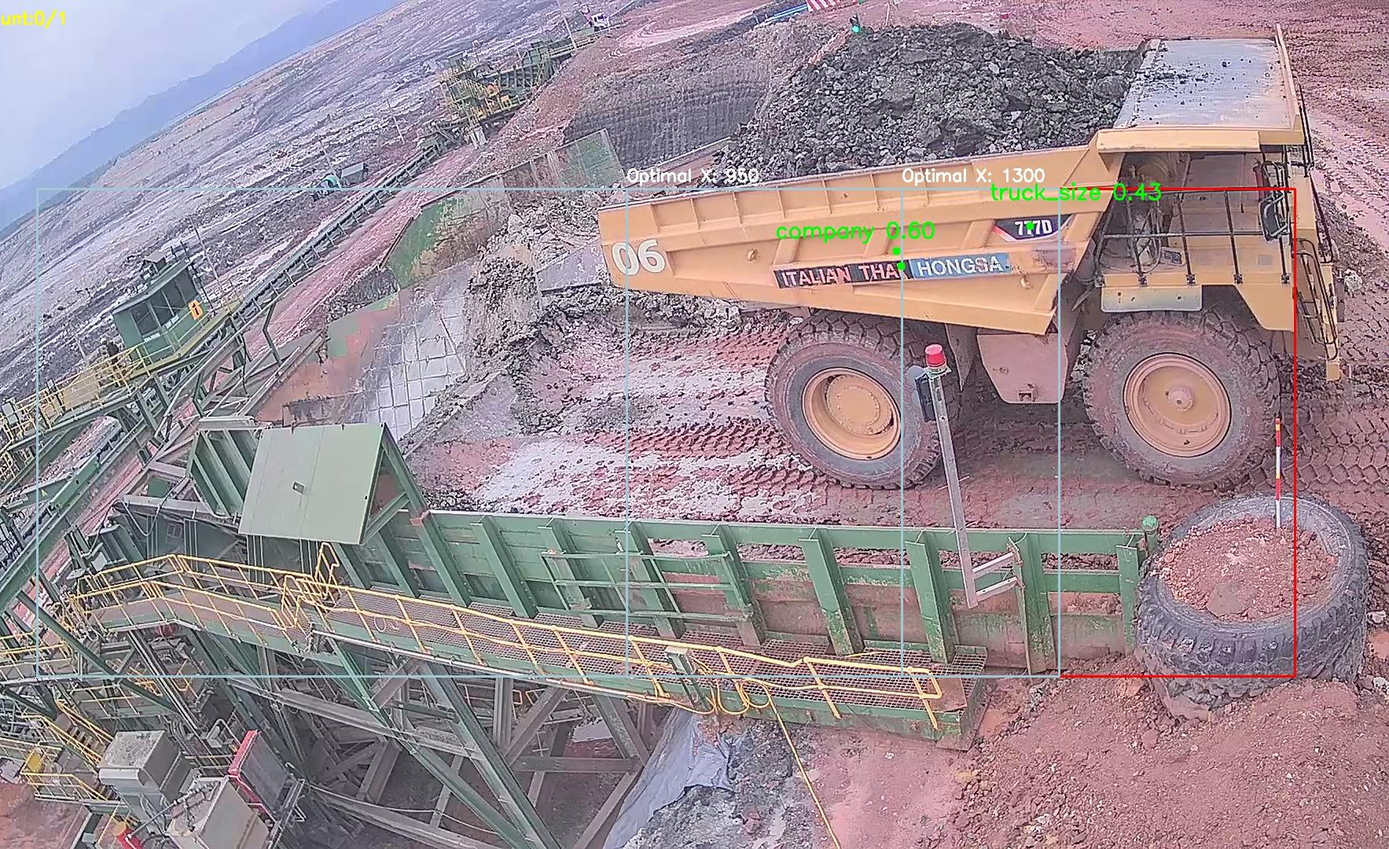company: (765, 246, 1015, 289)
full_load: (734, 26, 1097, 159)
mining_truck: (588, 8, 1343, 493)
tail_number: (608, 231, 673, 284)
truck_size: (1007, 209, 1058, 240)
